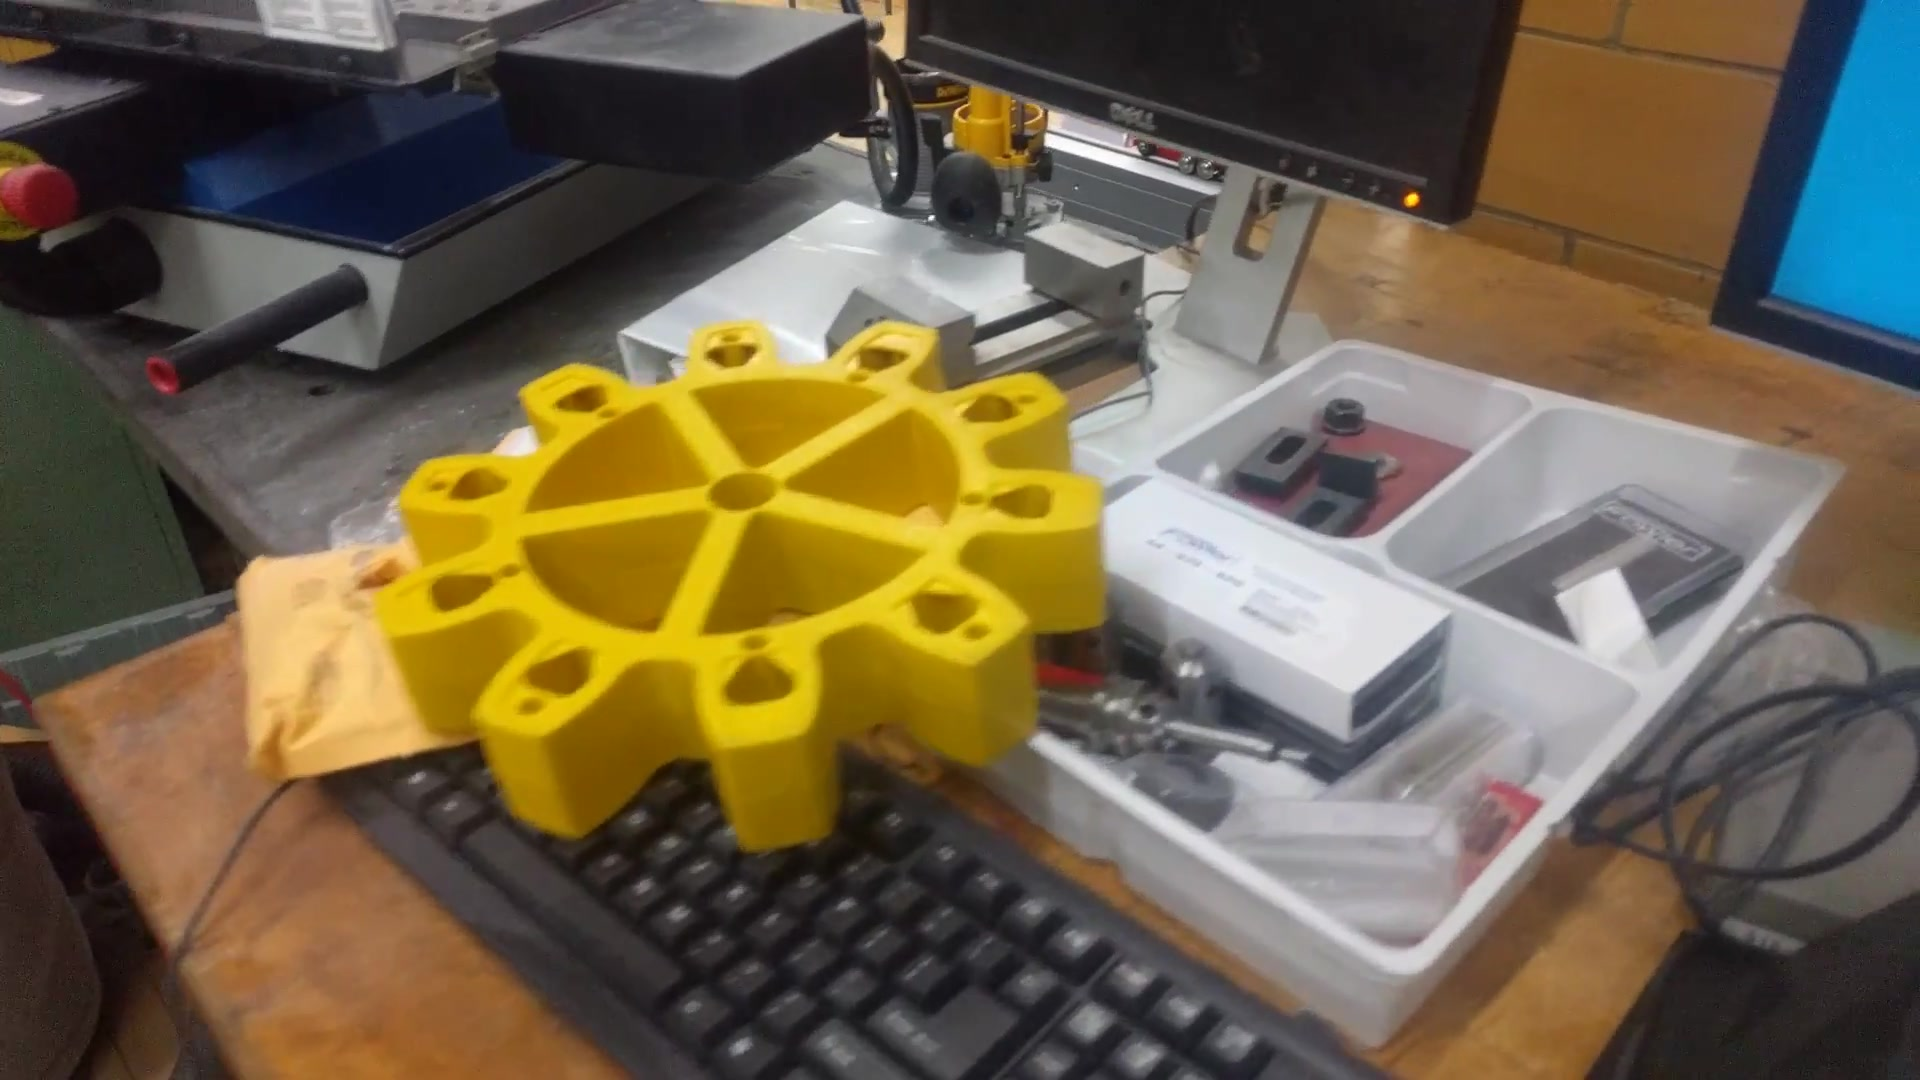gear: (349, 262, 1162, 897)
